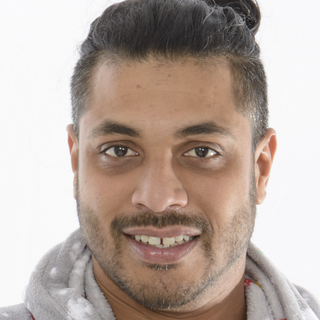eye: (177, 140, 227, 165), (95, 139, 143, 164)
